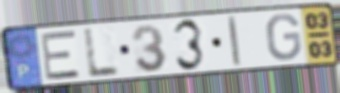3: (170, 17, 210, 73), (129, 22, 169, 74)
E: (38, 28, 83, 82)
G: (265, 12, 304, 62)
I: (226, 14, 244, 69)
L: (82, 26, 123, 79)
